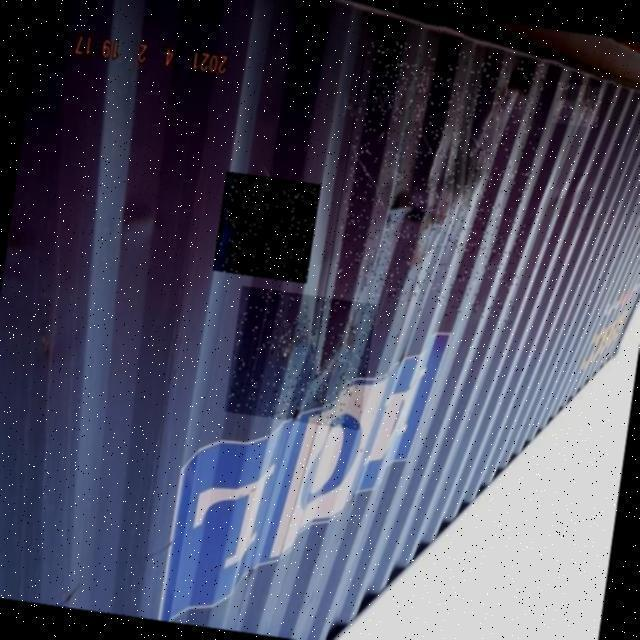dent: (332, 39, 550, 326), (226, 287, 378, 432), (214, 172, 322, 284), (553, 83, 604, 130)
